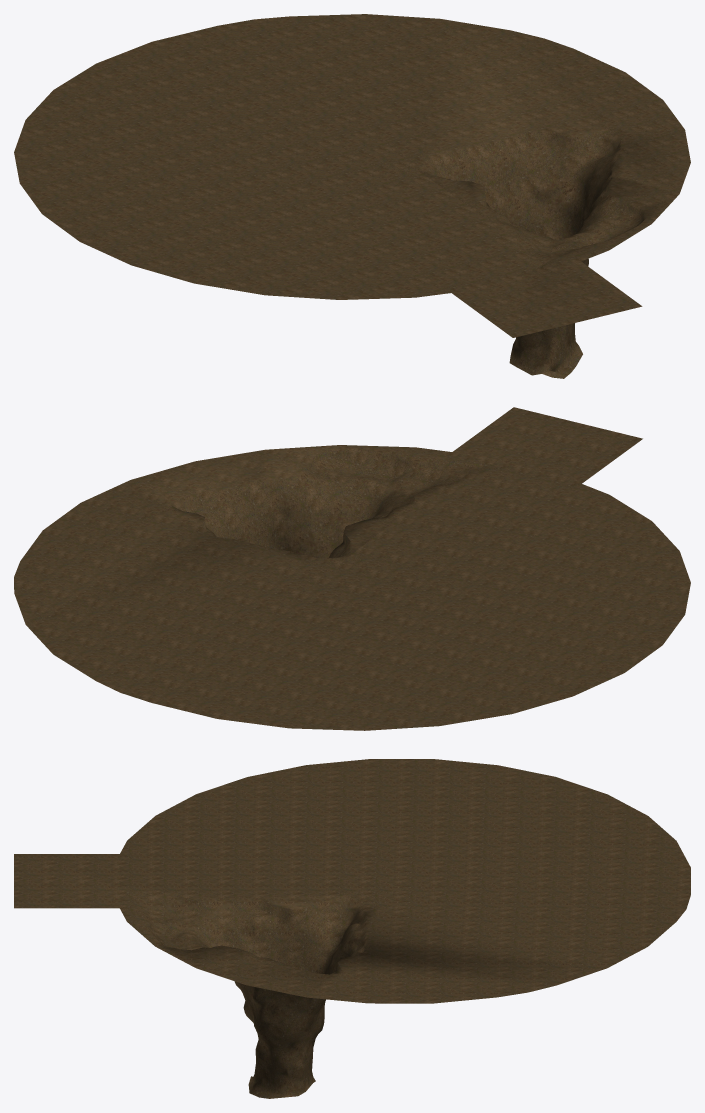
File: Greenhouse_Floor01.FBX
3 renders of one model, top to bottom at view 1: azimuth 30°, elevation 25°; view 2: azimuth 150°, elevation 25°; view 3: azimuth 270°, elevation 25°, orthographic. The views are drawn at different scales.
Visible parts, largest first — view 1: Greenhouse_Floor01; view 2: Greenhouse_Floor01; view 3: Greenhouse_Floor01.
Part boxes in pixels (box(x1,y1,x2,y2)): Greenhouse_Floor01: box(14, 14, 690, 378); Greenhouse_Floor01: box(14, 407, 690, 730); Greenhouse_Floor01: box(14, 759, 690, 1098).
Bounding box in the file's own units: 8315 × 2550 × 9731.
